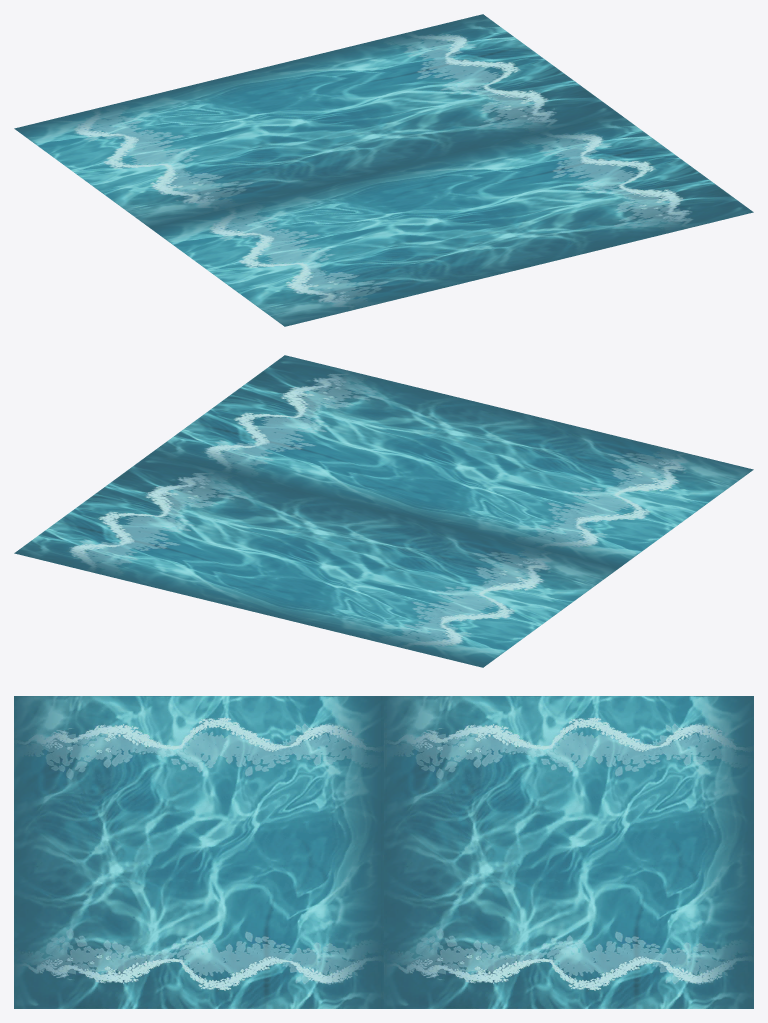
Rendered from water (1).fbx.
The picture shows the model from 3 angles, top to bottom: view 1: azimuth 30°, elevation 25°; view 2: azimuth 150°, elevation 25°; view 3: azimuth 270°, elevation 25°; orthographic projection. The views are drawn at different scales.
Parts seen in each view (by area): view 1: water (1); view 2: water (1); view 3: water (1).
Part boxes in pixels (x1,y1,x2,y2): water (1): [14, 14, 753, 326]; water (1): [14, 355, 753, 667]; water (1): [14, 696, 753, 1008].
Bounding box in the file's own units: 200 × 7.15e-05 × 200.
